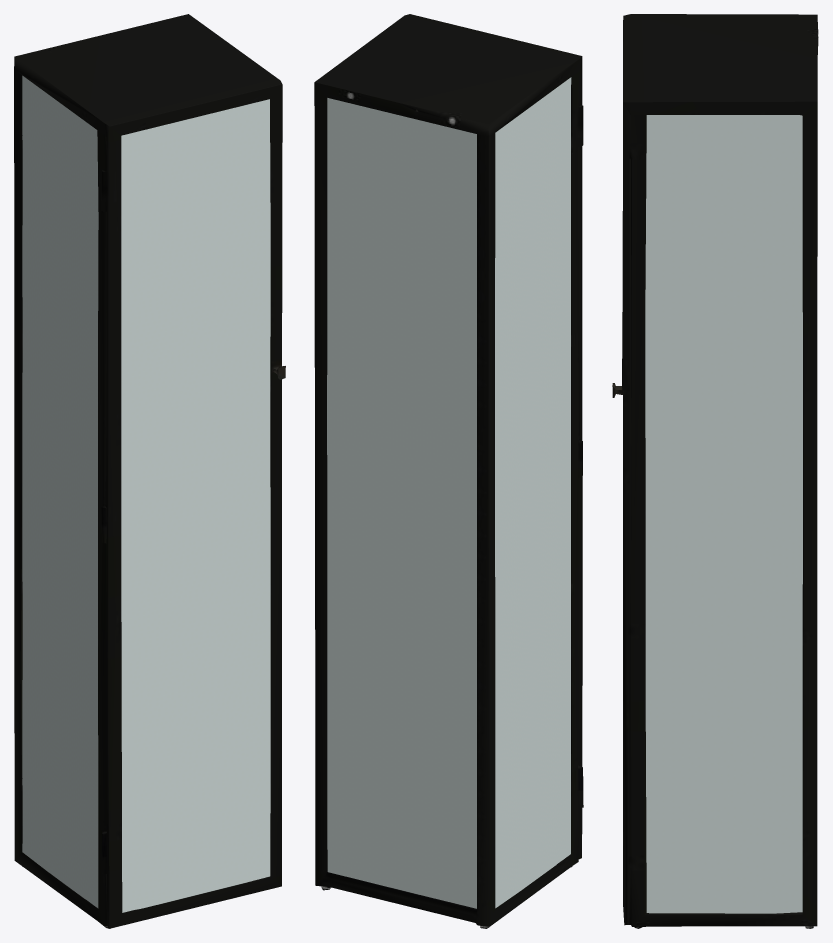
Rendered from 07 - BLÅLIDEN Glass-door cabinet - black 35x32x151 cm.glb.
3 views of the same model, side by side, from view 1: azimuth 30°, elevation 25°; view 2: azimuth 150°, elevation 25°; view 3: azimuth 270°, elevation 25° (orthographic). The views are drawn at different scales.
Visible parts, largest first — view 1: 2, ProcessedMeshNode; view 2: 2, ProcessedMeshNode; view 3: 2, ProcessedMeshNode.
Boxes of the visible parts, <box> form: 2: <box>22,75,270,912</box>; ProcessedMeshNode: <box>14,14,285,928</box>; 2: <box>327,77,571,908</box>; ProcessedMeshNode: <box>314,14,583,928</box>; 2: <box>645,115,802,913</box>; ProcessedMeshNode: <box>612,14,818,928</box>.
Size of the model in its own units: 0.3491 by 1.51 by 0.3397.
Materials: 2 (2 with a texture image).
